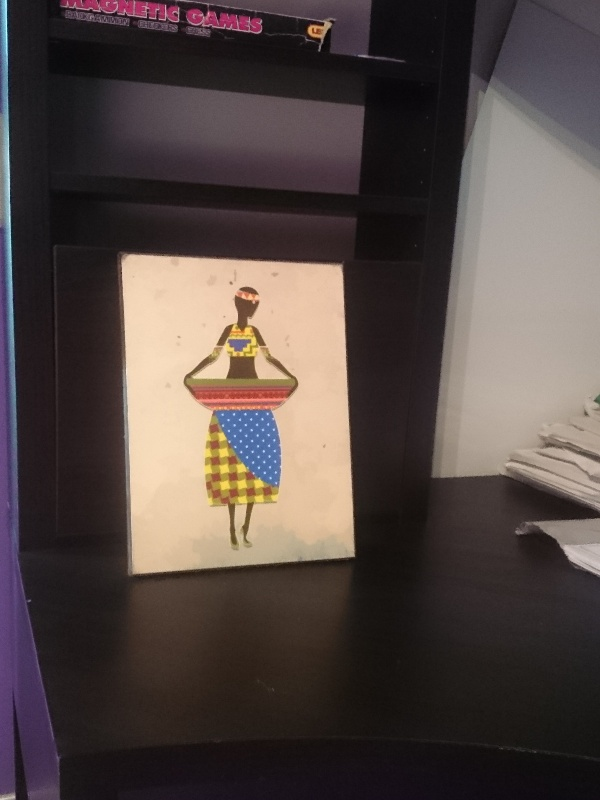my image: (121, 260, 348, 569)
